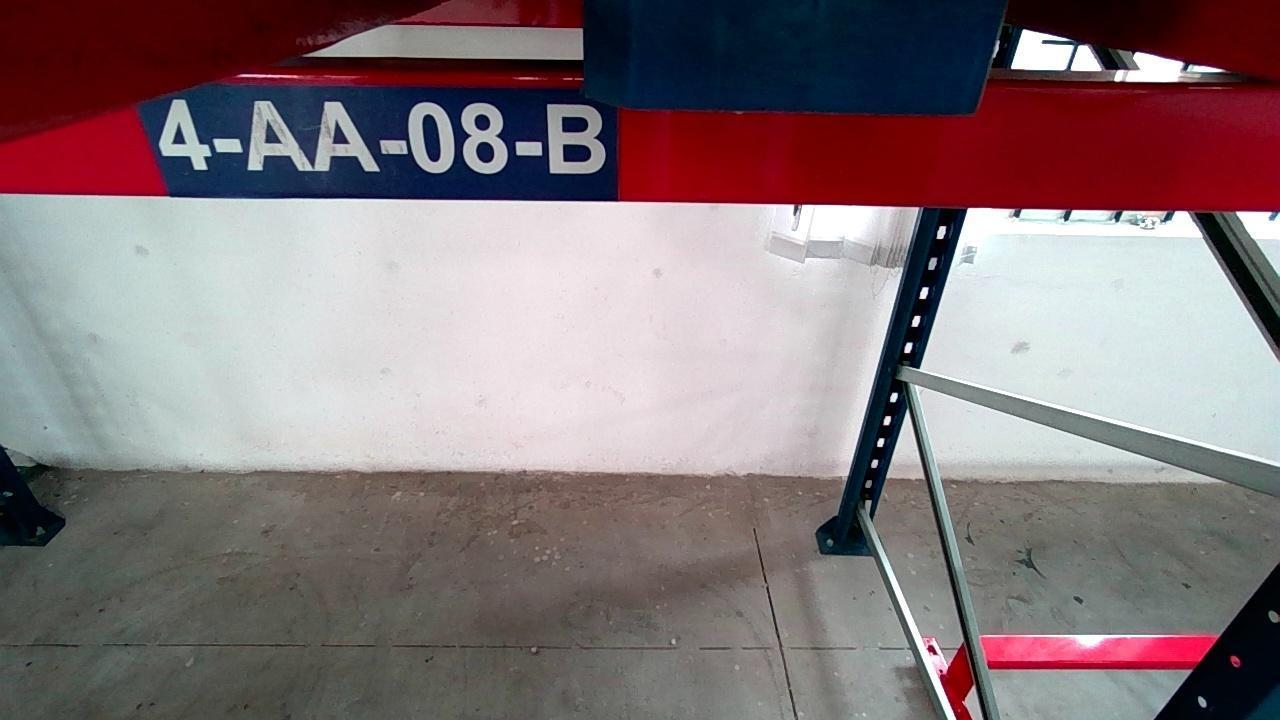h_rack: (1, 80, 1279, 208)
